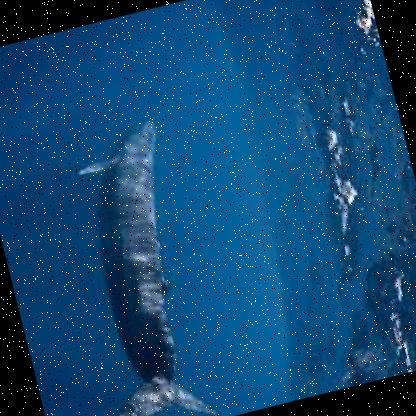blue_whale: (0, 108, 238, 415)
